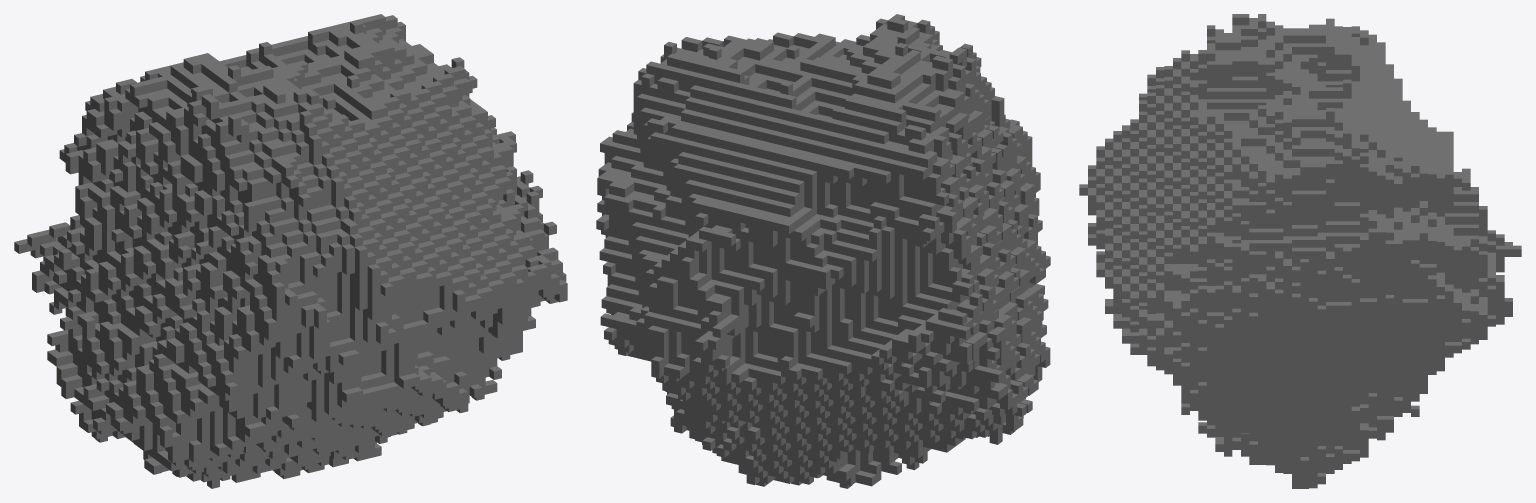
Rendered from rock.obj.
The picture shows the model from 3 angles, left to right: view 1: azimuth 30°, elevation 25°; view 2: azimuth 150°, elevation 25°; view 3: azimuth 270°, elevation 25°; orthographic projection. The views are drawn at different scales.
Bounding box in the file's own units: 5.1 × 5.2 × 5.2.
Materials: 1 (1 with a texture image).
